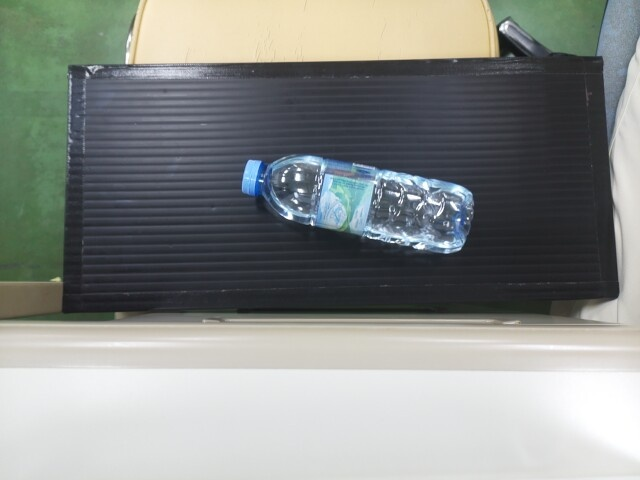plastic_bottle: (236, 146, 472, 255)
